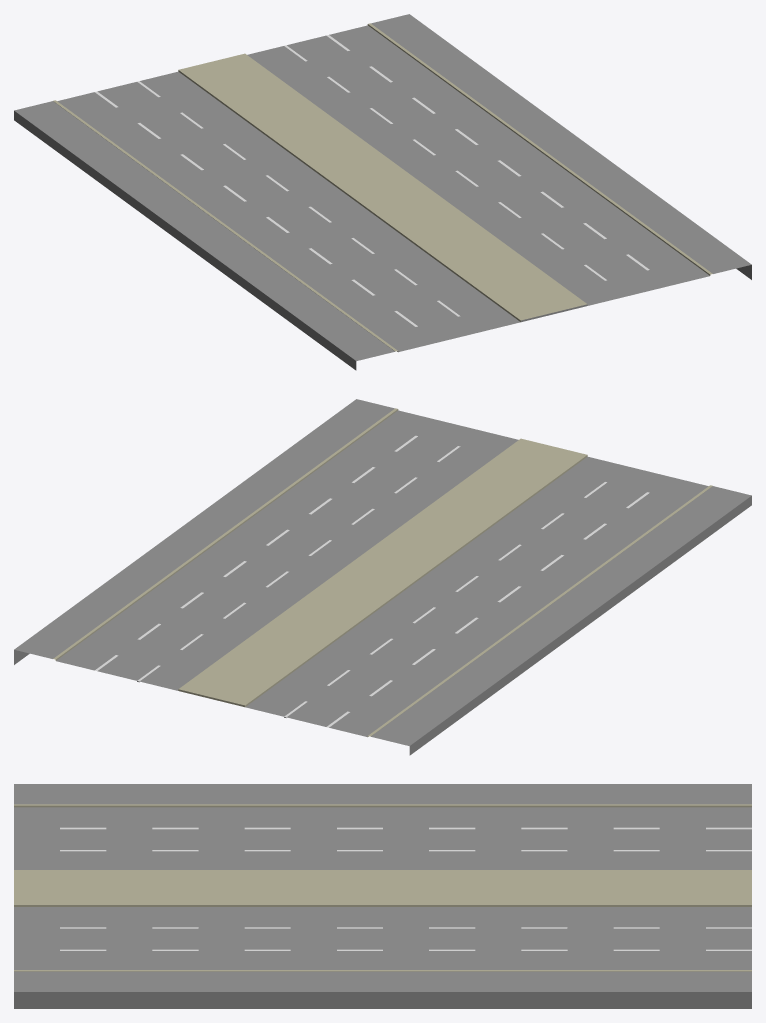
Rendered from RoadPart2.fbx.
3 renders of one model, top to bottom at view 1: azimuth 30°, elevation 25°; view 2: azimuth 150°, elevation 25°; view 3: azimuth 270°, elevation 25°, orthographic. The views are drawn at different scales.
Parts seen in each view (by area): view 1: RoadPart2; view 2: RoadPart2; view 3: RoadPart2.
Boxes of the visible parts, bbox=[...] form: RoadPart2: bbox=[14, 14, 751, 370]; RoadPart2: bbox=[14, 399, 751, 755]; RoadPart2: bbox=[14, 784, 751, 1008].
Size of the model in its own units: 3211 by 125 by 4817.
